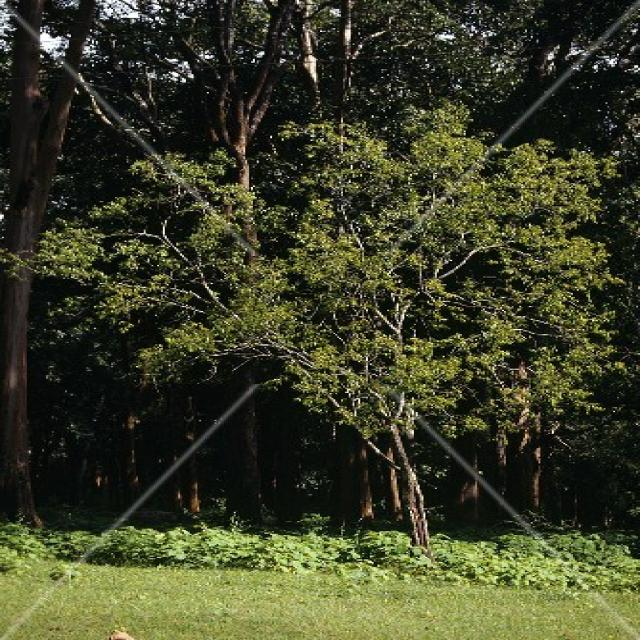Medicinal-Sandalwood: (26, 91, 627, 549)
